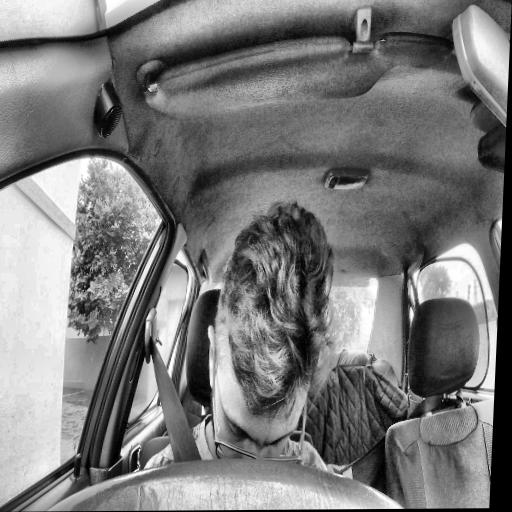drowsy: (202, 200, 341, 468)
